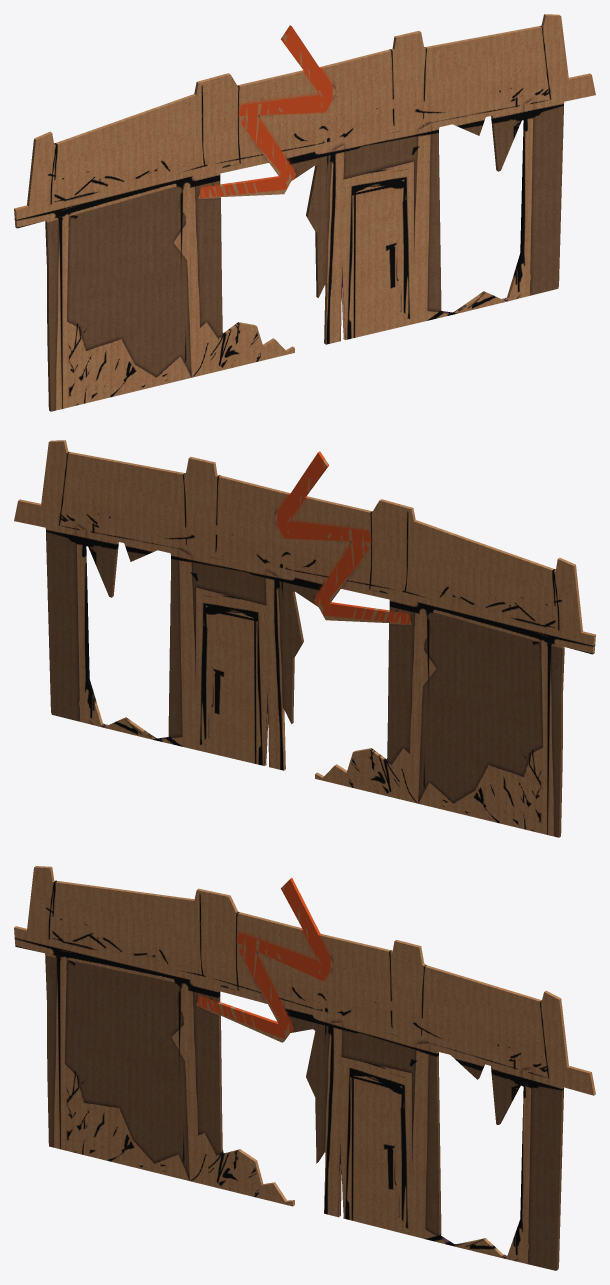
The model's file is shop_2.FBX.
3 views of the same model, one above another, from view 1: azimuth 30°, elevation 25°; view 2: azimuth 150°, elevation 25°; view 3: azimuth 330°, elevation 25° (orthographic).
Visible parts, largest first — view 1: shop_2; view 2: shop_2; view 3: shop_2.
Boxes of the visible parts, x1=… form: shop_2: x1=14, y1=14, x2=595, y2=411; shop_2: x1=14, y1=440, x2=595, y2=837; shop_2: x1=14, y1=866, x2=595, y2=1270.
Bounding box in the file's own units: 1175 × 634 × 7.
1 material, 1 textured.
